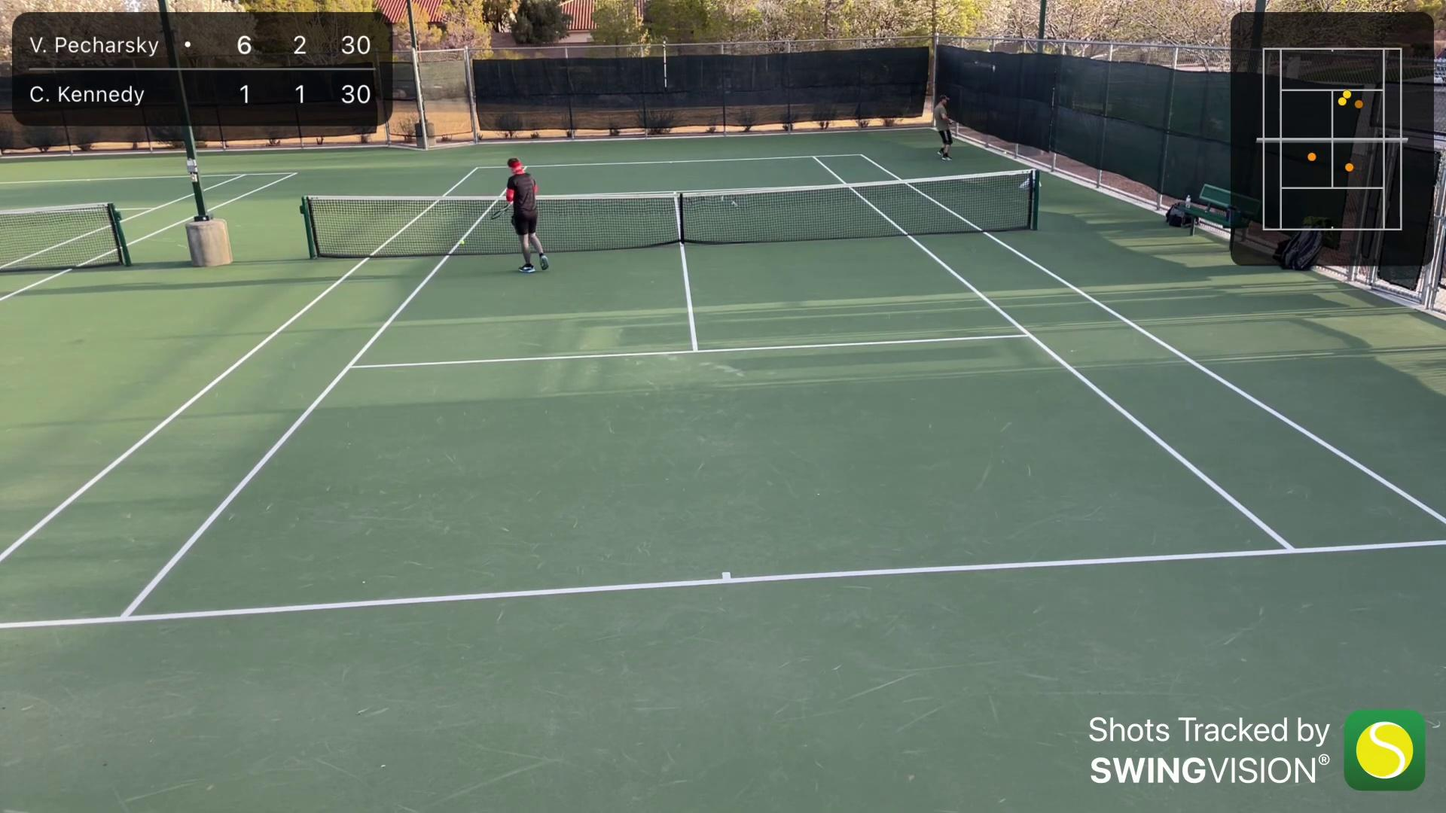ball: (1001, 150, 1008, 157)
